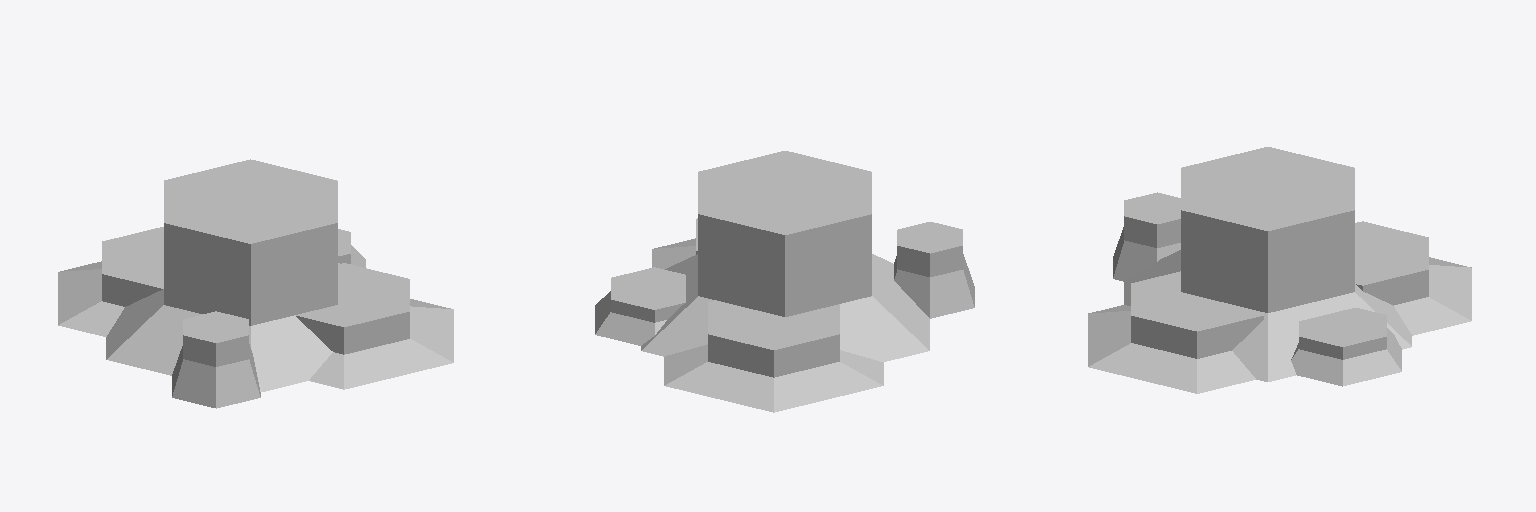
The model's file is rock.obj.
The picture shows the model from 3 angles: view 1: azimuth 30°, elevation 25°; view 2: azimuth 150°, elevation 25°; view 3: azimuth 270°, elevation 25°; orthographic projection.
Parts seen in each view (by area): view 1: rock; view 2: rock; view 3: rock.
Part boxes in pixels (x1,y1,x2,y2): rock: (58, 159, 453, 408); rock: (595, 151, 974, 412); rock: (1088, 147, 1471, 393).
Size of the model in its own units: 0.8015 by 0.3 by 0.8509.